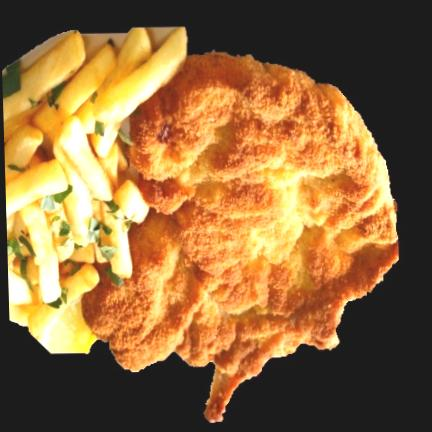chicken: (83, 53, 398, 422)
potato: (2, 29, 185, 354)
